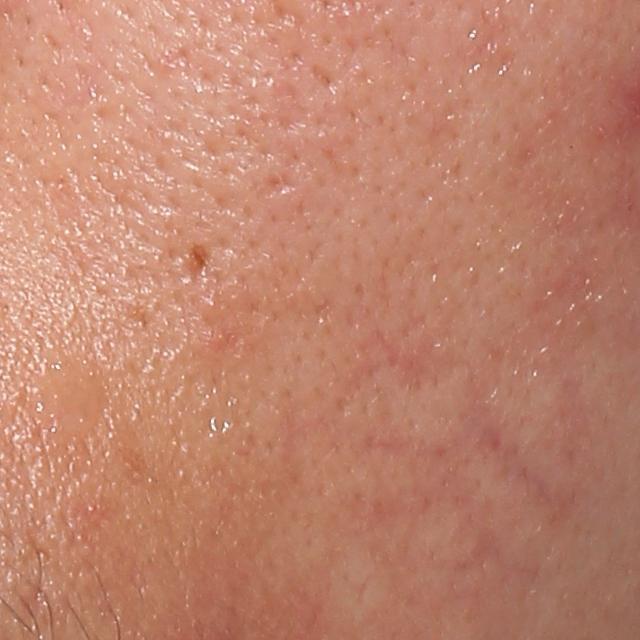atrophic_scar: (309, 61, 348, 100), (265, 170, 302, 197)
nevus: (190, 243, 210, 275)
